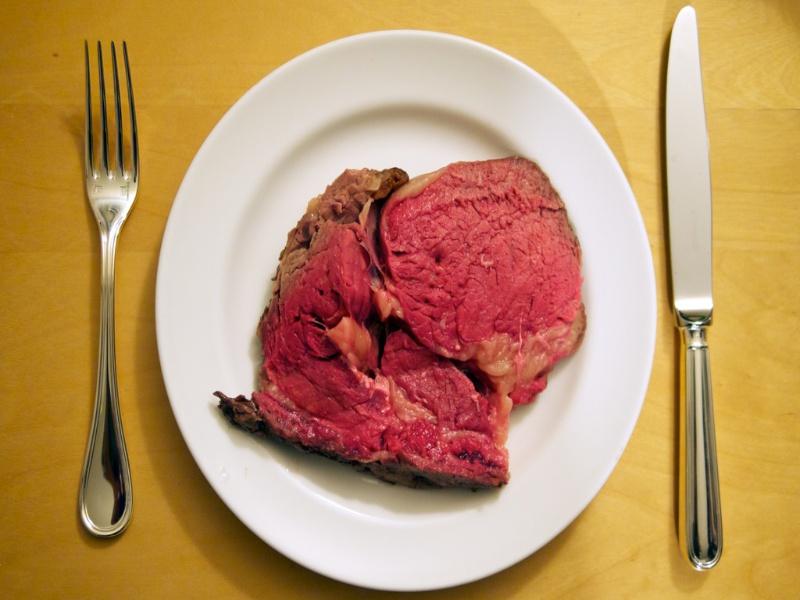knife: (661, 4, 729, 575)
